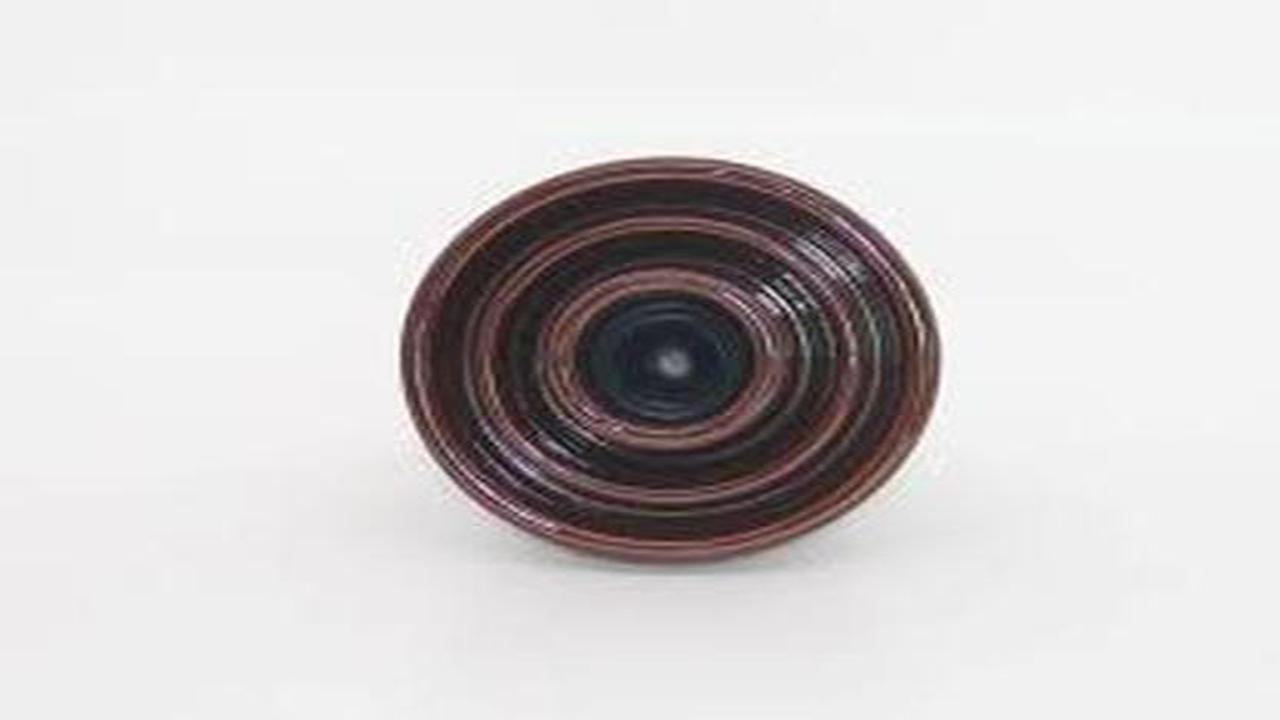insulator_pin: (379, 144, 973, 586)
